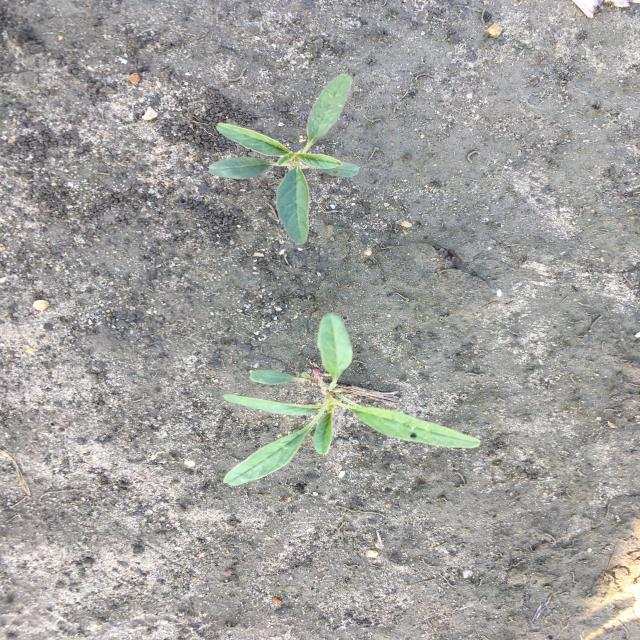Waterhemp: (219, 312, 483, 488), (206, 71, 362, 248)
